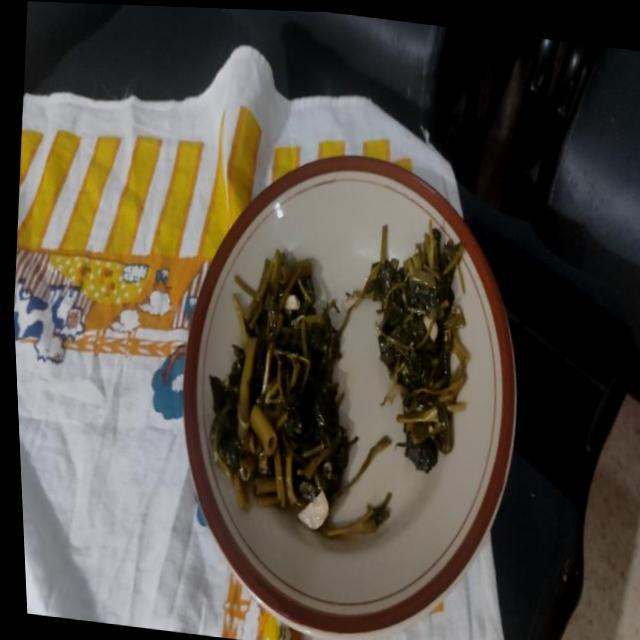tumis_kangkung: (210, 250, 357, 508), (362, 222, 468, 472)
